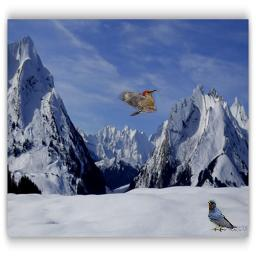Swallow: (208, 199, 244, 239)
Woodpecker: (117, 89, 157, 116)
